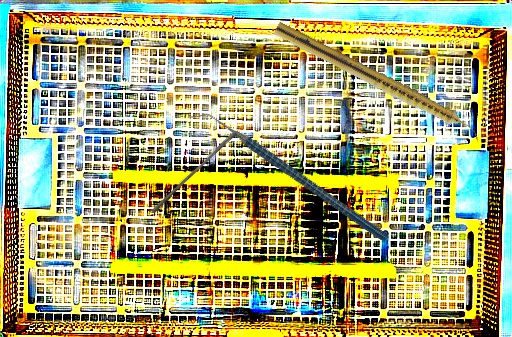Chopper: (187, 61, 389, 291)
Handpiece: (270, 20, 486, 144)
Pusher: (151, 128, 237, 217)
